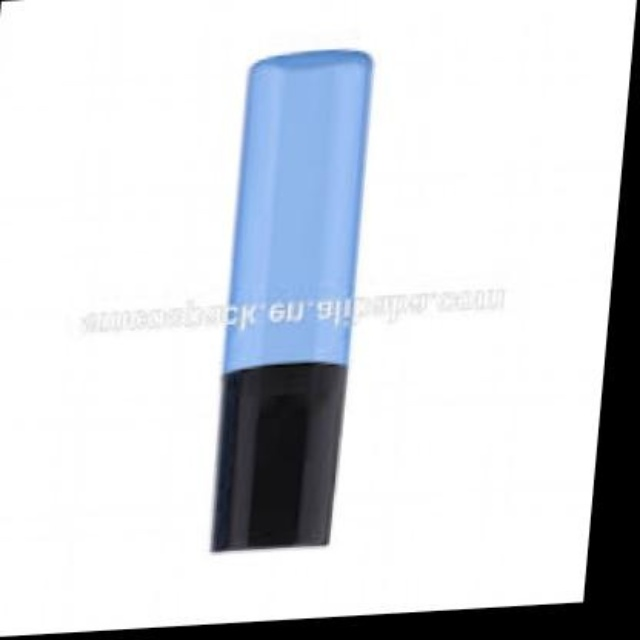trash: (212, 51, 371, 549)
